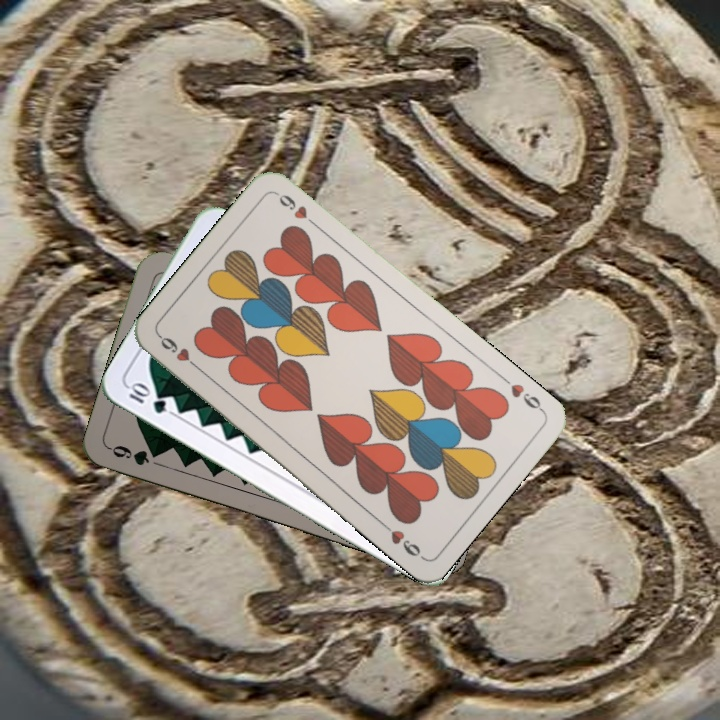G10: (123, 379, 169, 417)
G9: (106, 441, 152, 468)
H9: (497, 372, 547, 415), (155, 331, 204, 374)
